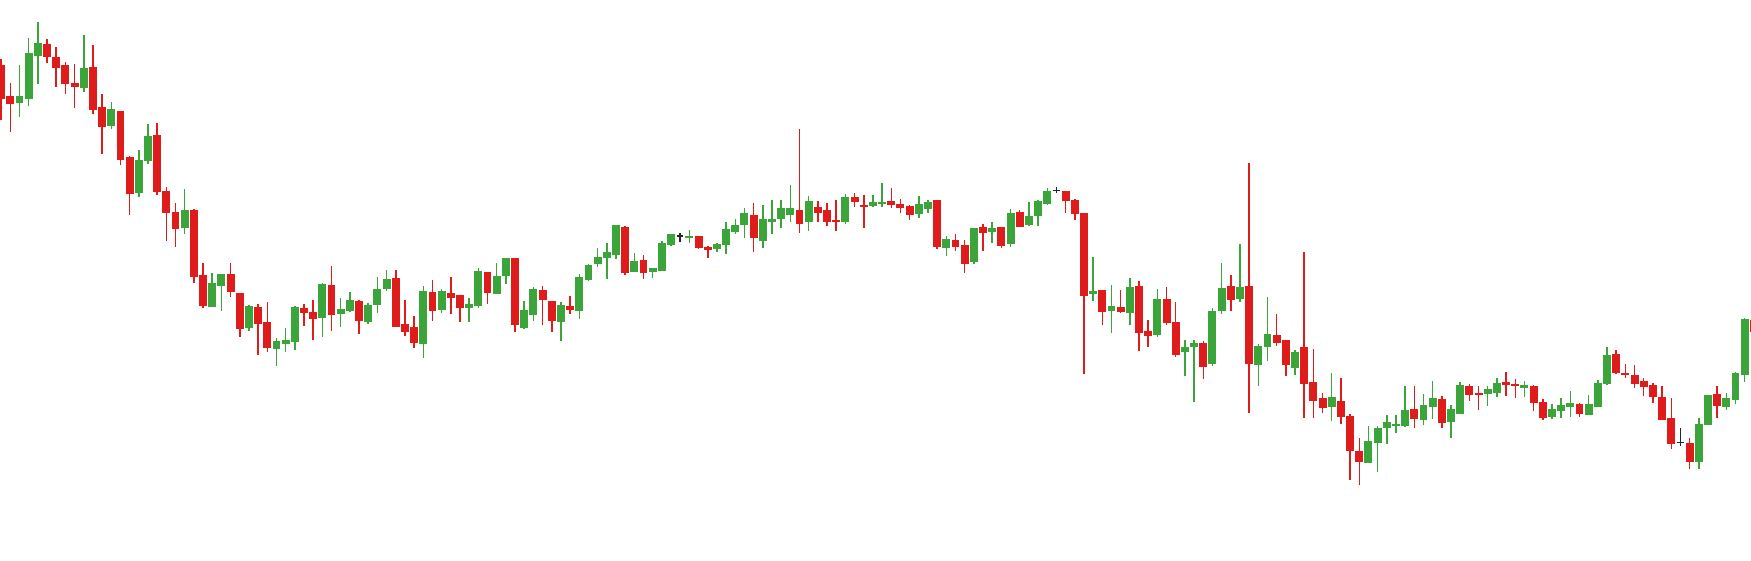buy: (455, 278, 529, 340)
